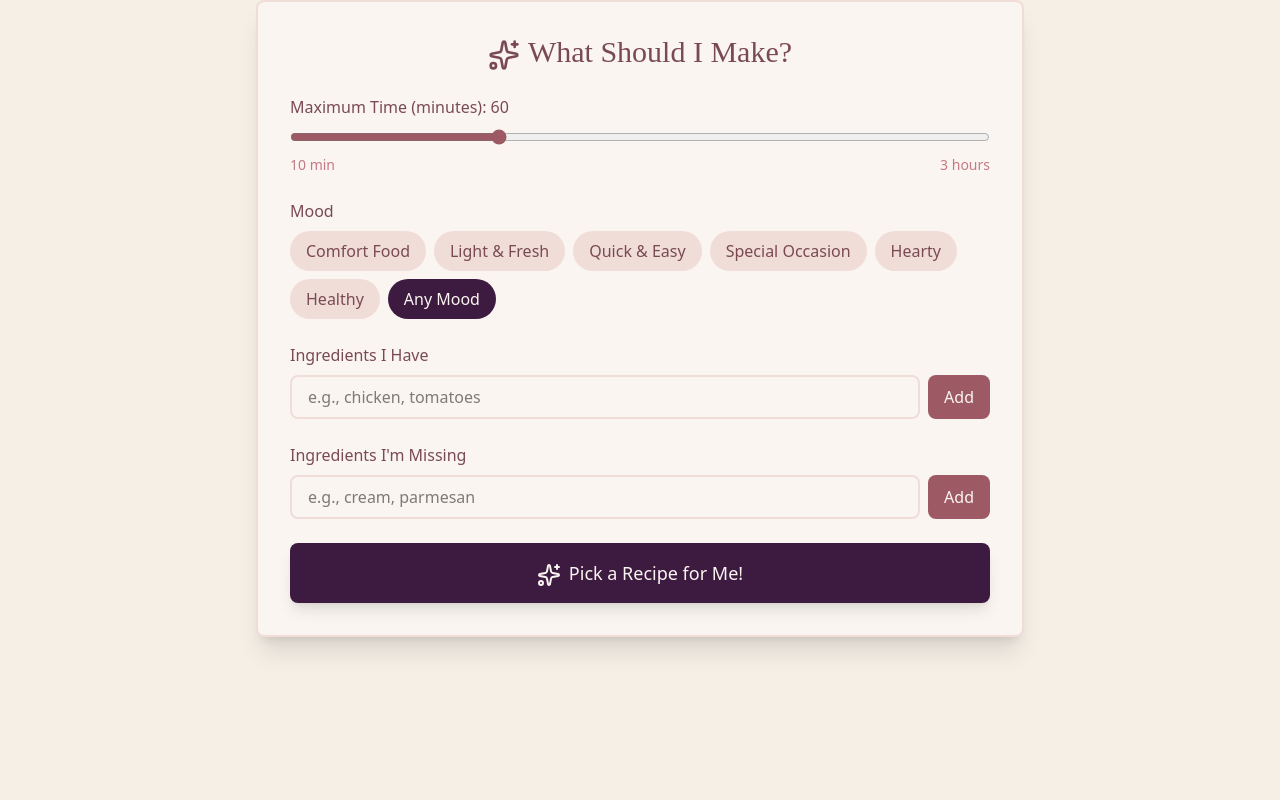
Test: pick flow › should close the modal when the backdrop is clicked
Click the button "Pick a Recipe for Me!": (640, 573) [290, 543, 990, 603]
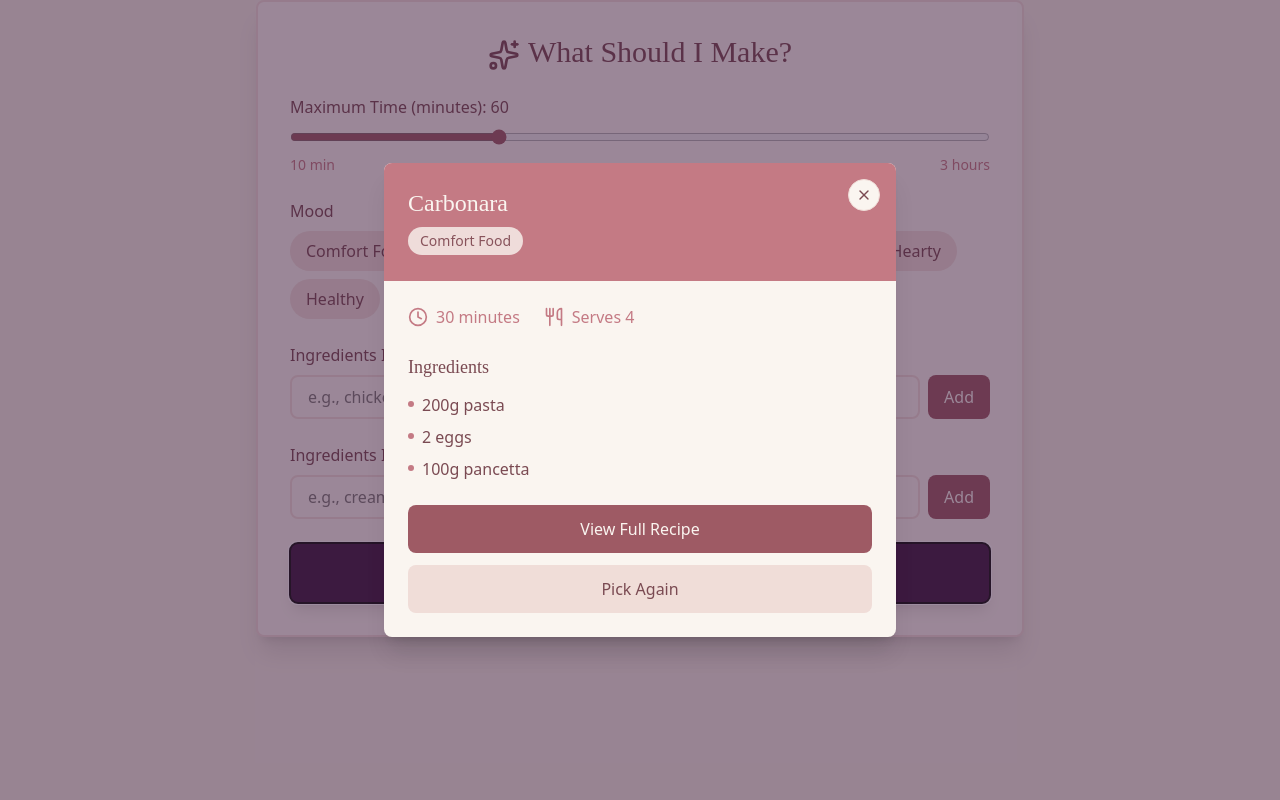
Result: the button "View Full Recipe" is shown at [408, 505, 872, 553]
Click the element with class "fixed": (77, 400) [0, 0, 1279, 799]
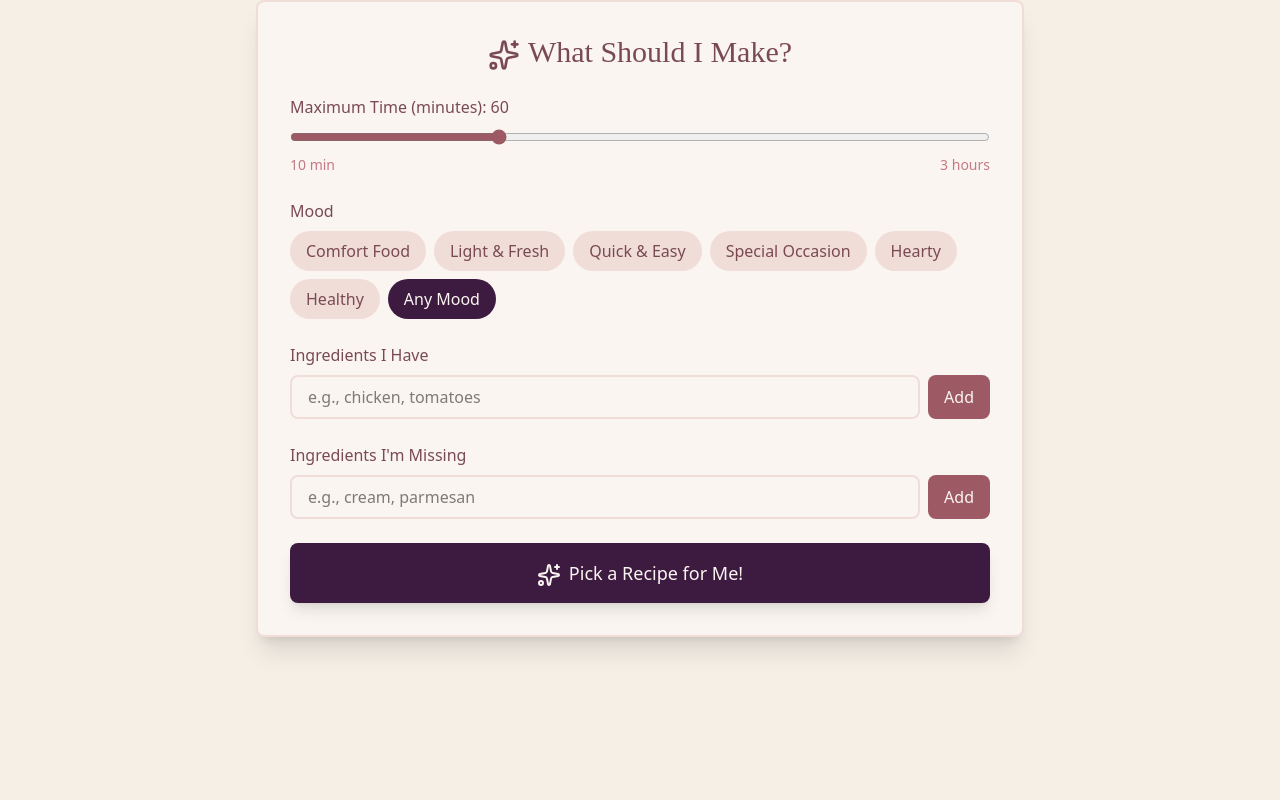
Result: the button "View Full Recipe" is gone
